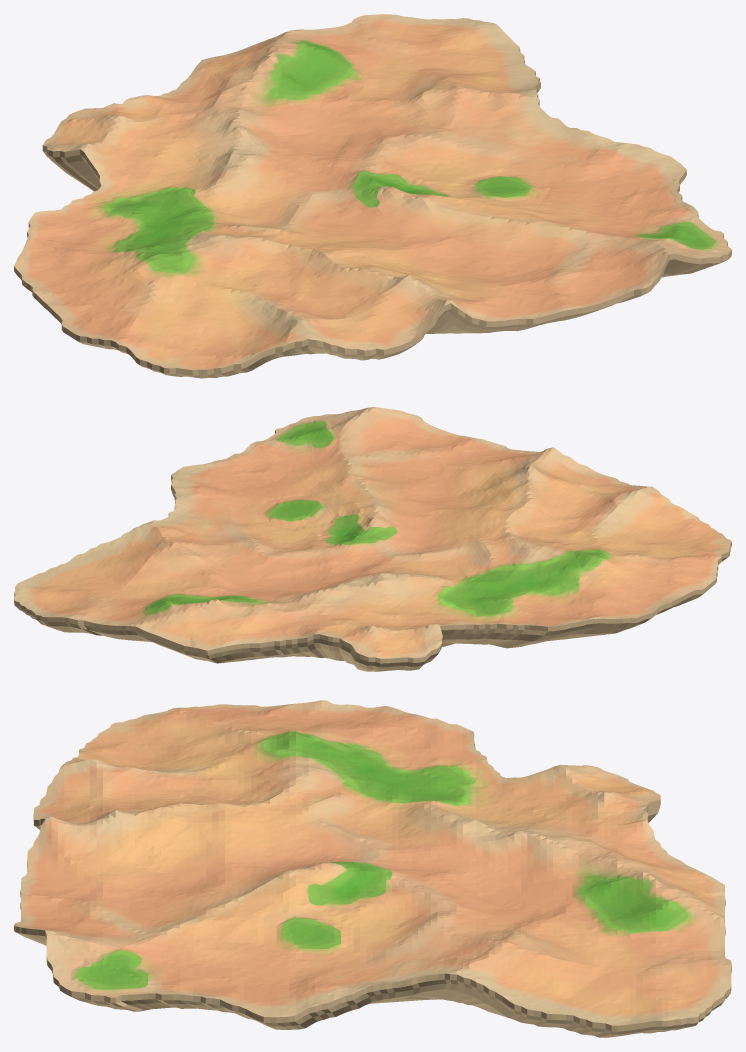
File: Island.fbx
3 renders of one model, top to bottom at view 1: azimuth 30°, elevation 25°; view 2: azimuth 150°, elevation 25°; view 3: azimuth 270°, elevation 25°, orthographic. The views are drawn at different scales.
Parts seen in each view (by area): view 1: Island; view 2: Island; view 3: Island.
Part boxes in pixels (left/top/right/bottom): Island: left=14, top=14, right=731, bottom=378; Island: left=14, top=407, right=731, bottom=671; Island: left=14, top=700, right=731, bottom=1037.
Bounding box in the file's own units: 23137 × 4127 × 22334.
3 materials, 2 textured.
